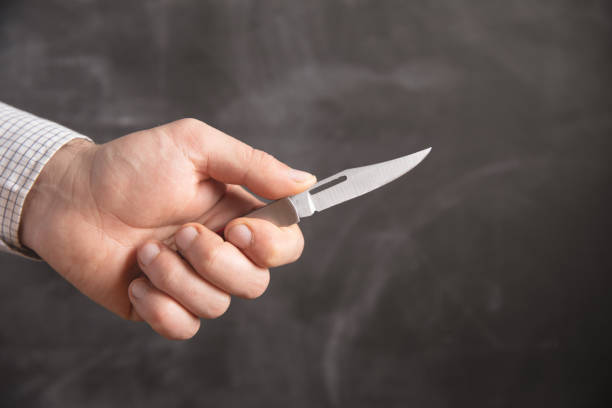knife: (246, 146, 434, 226)
